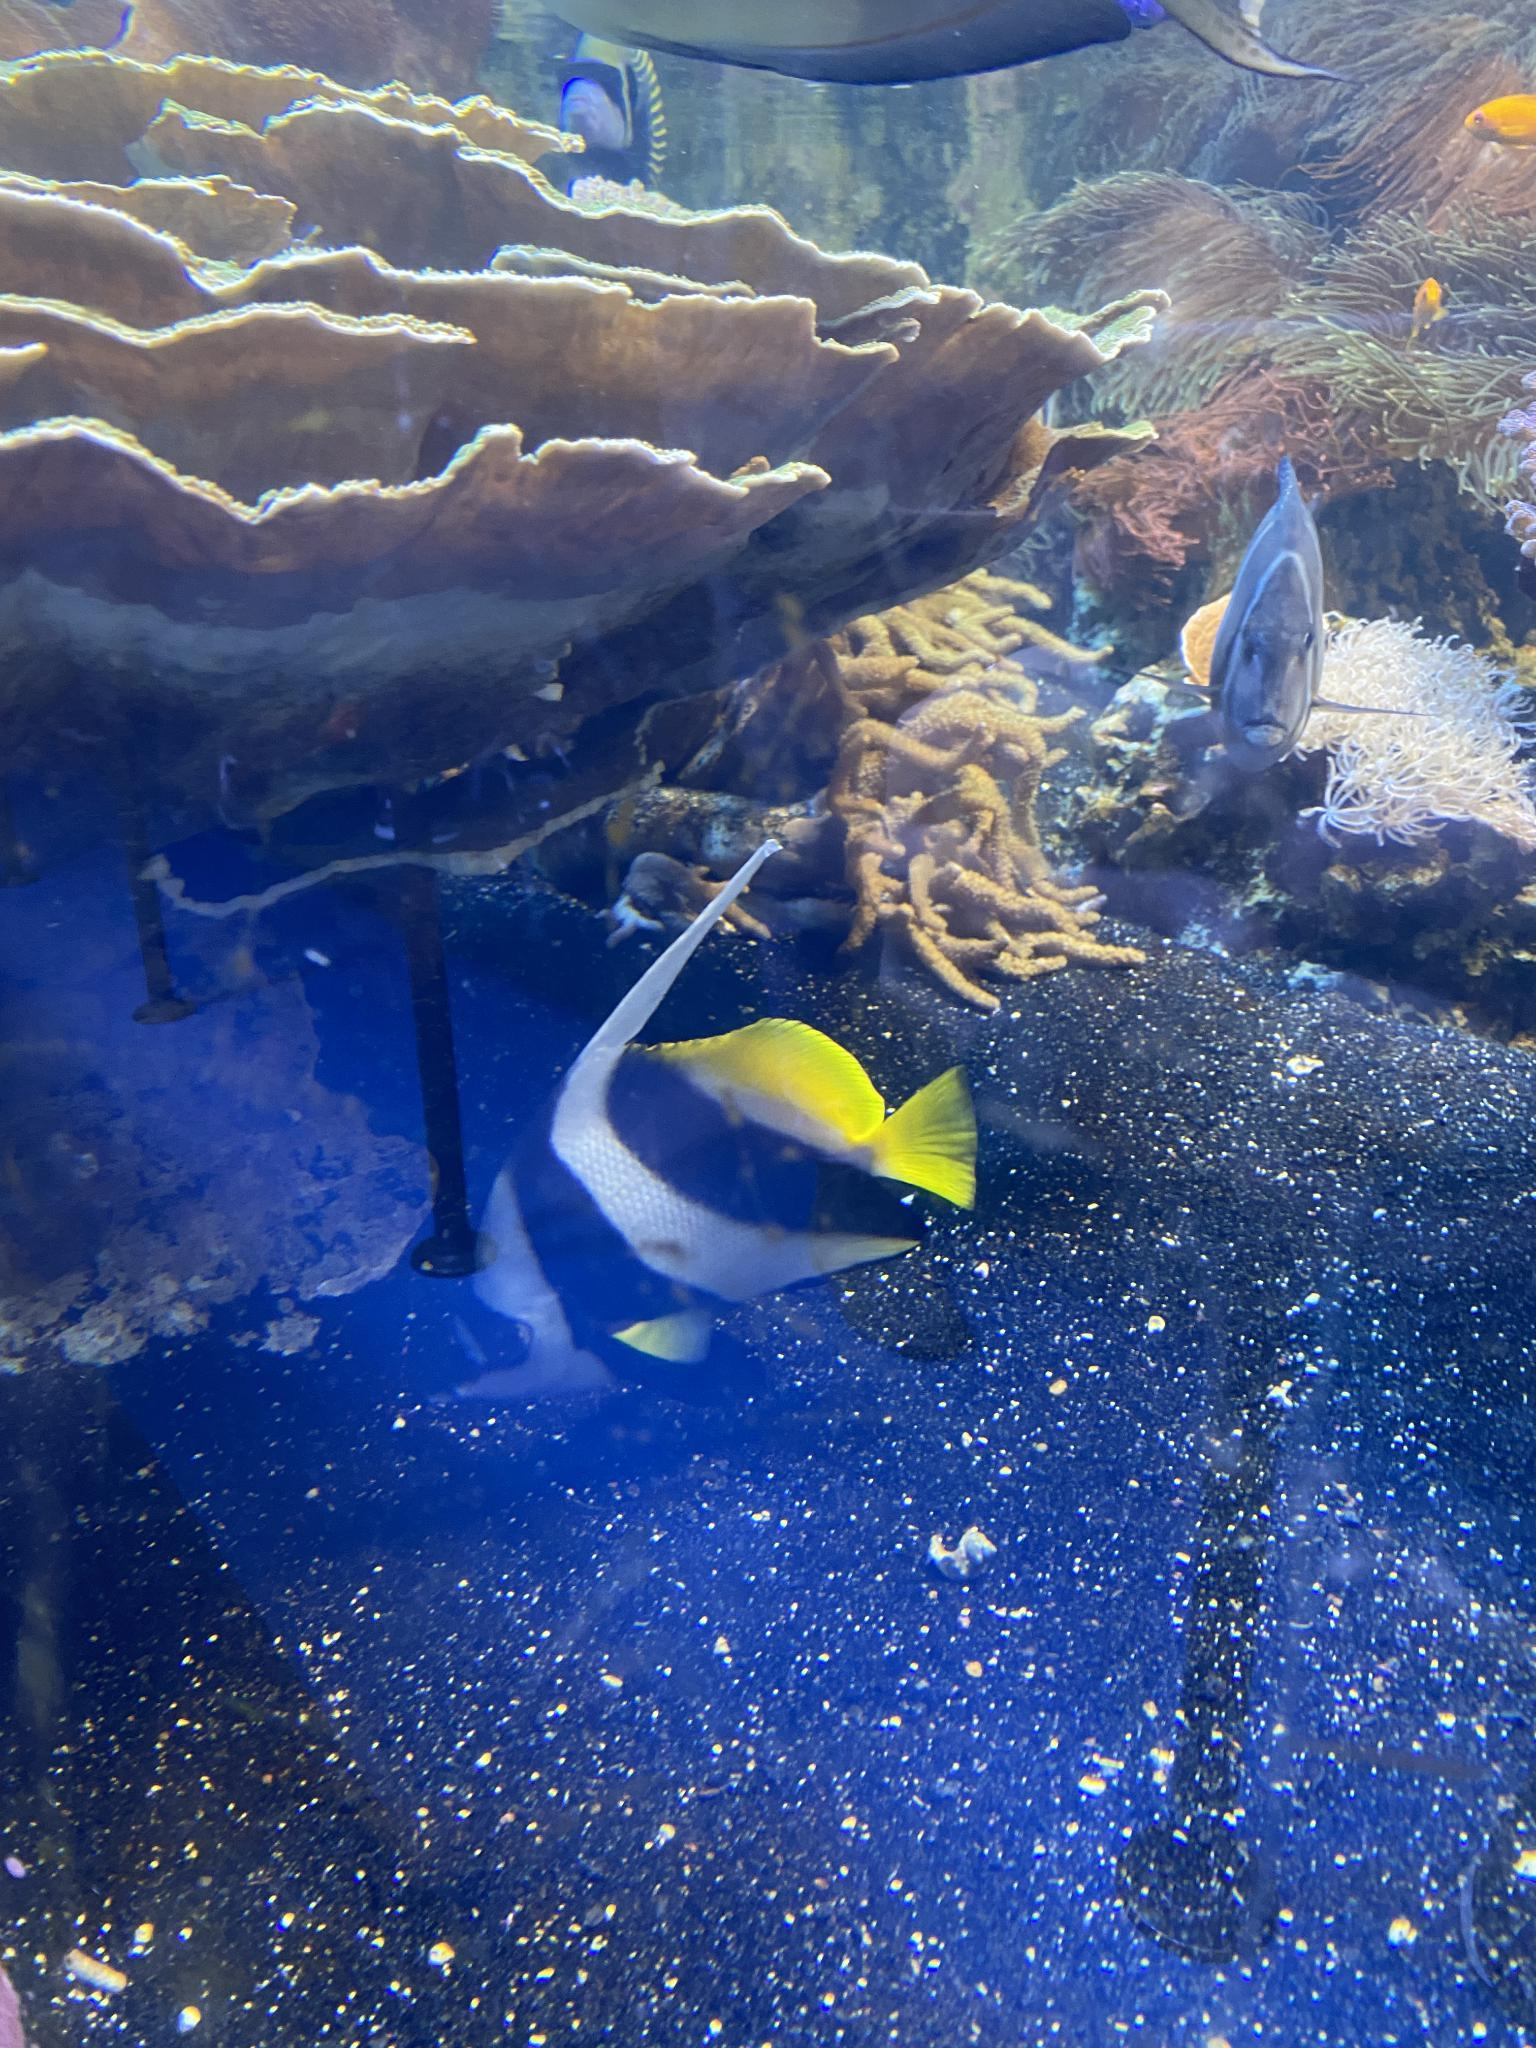fish: (432, 1018, 979, 1409), (1200, 460, 1333, 780), (561, 18, 670, 202), (1468, 94, 1536, 150), (1409, 269, 1450, 352)
